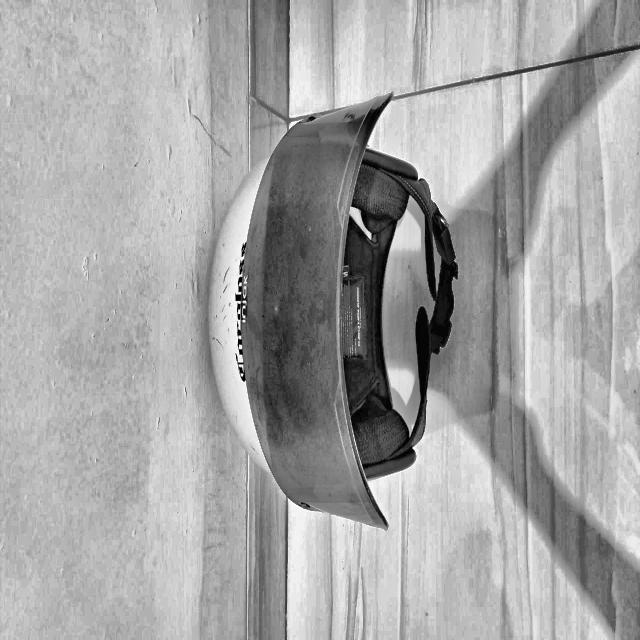Helmet: (194, 57, 482, 555)
